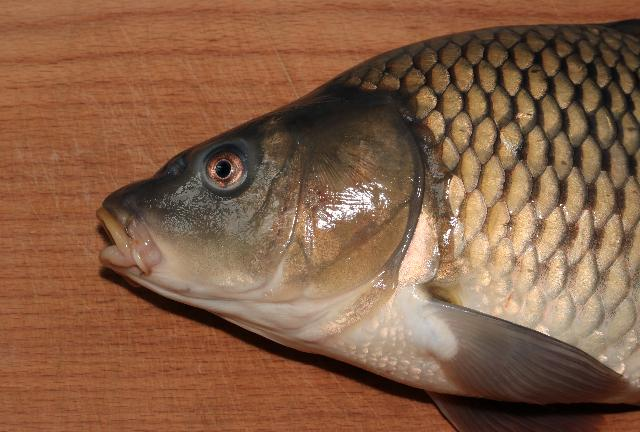Mulut: (54, 164, 172, 304)
Sirip Dada: (376, 263, 640, 432)
